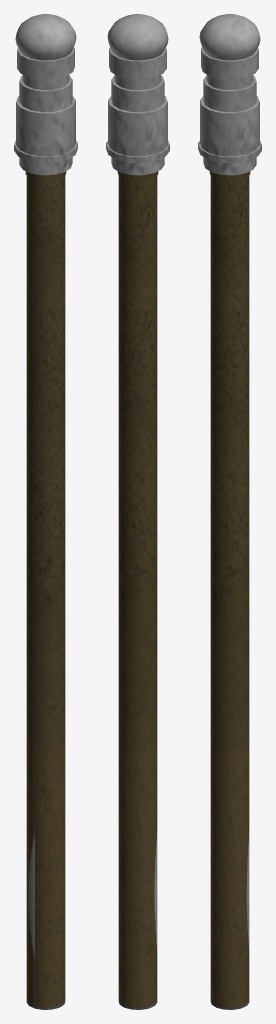
File: richguy_cane.fbx
3 renders of one model, left to right at view 1: azimuth 30°, elevation 25°; view 2: azimuth 150°, elevation 25°; view 3: azimuth 330°, elevation 25°, orthographic.
Visible parts, largest first — view 1: cane2:Mesh; view 2: cane2:Mesh; view 3: cane2:Mesh.
Boxes of the visible parts, x1=… form: cane2:Mesh: x1=14, y1=14, x2=77, y2=1009; cane2:Mesh: x1=106, y1=14, x2=169, y2=1009; cane2:Mesh: x1=198, y1=14, x2=261, y2=1009.
Size of the model in its own units: 0.6545 by 11.1 by 0.6381.
